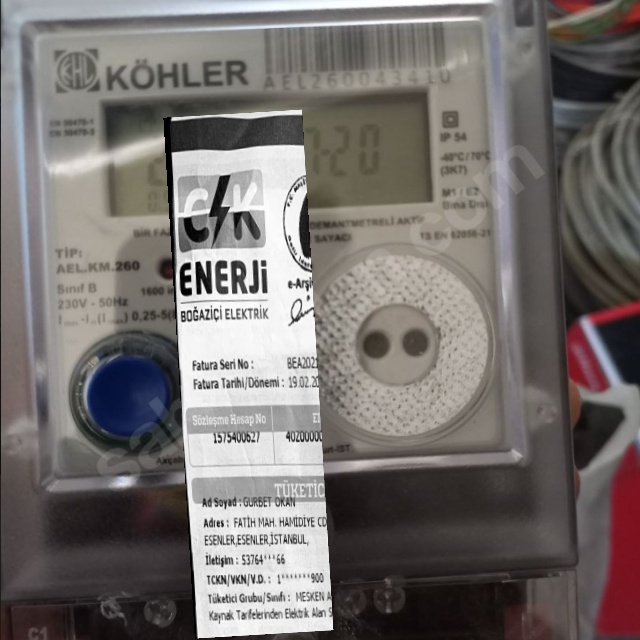electricity-bill: (162, 109, 334, 639)
